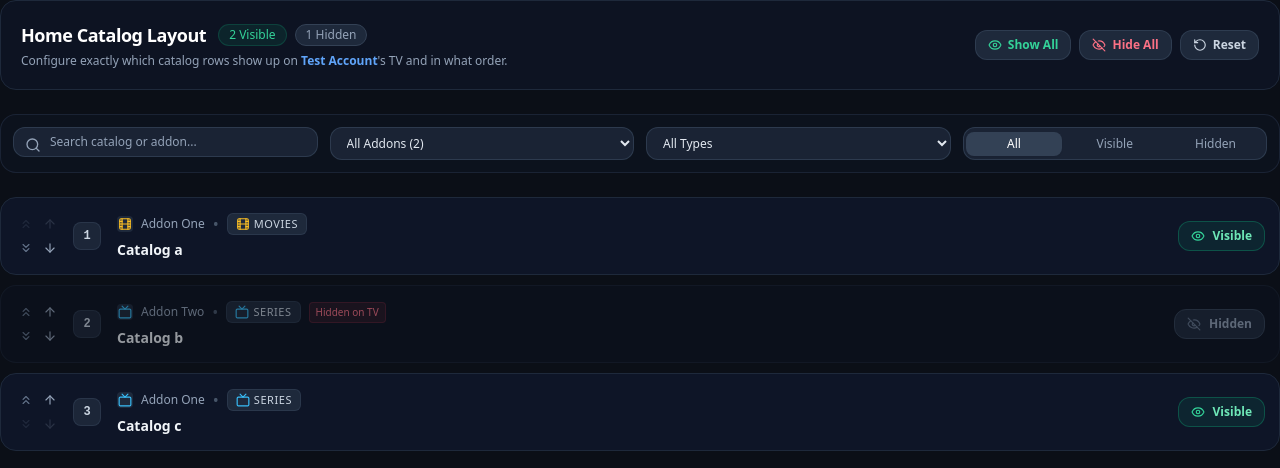
Test case: CatalogManager › type filter narrows the list to one type
This screenshot has width=1280, height=468.
Note: The type filter is the second select element.
Select "SERIES" in the 2nd dropdown at point(798, 144), box [646,127,950,160]
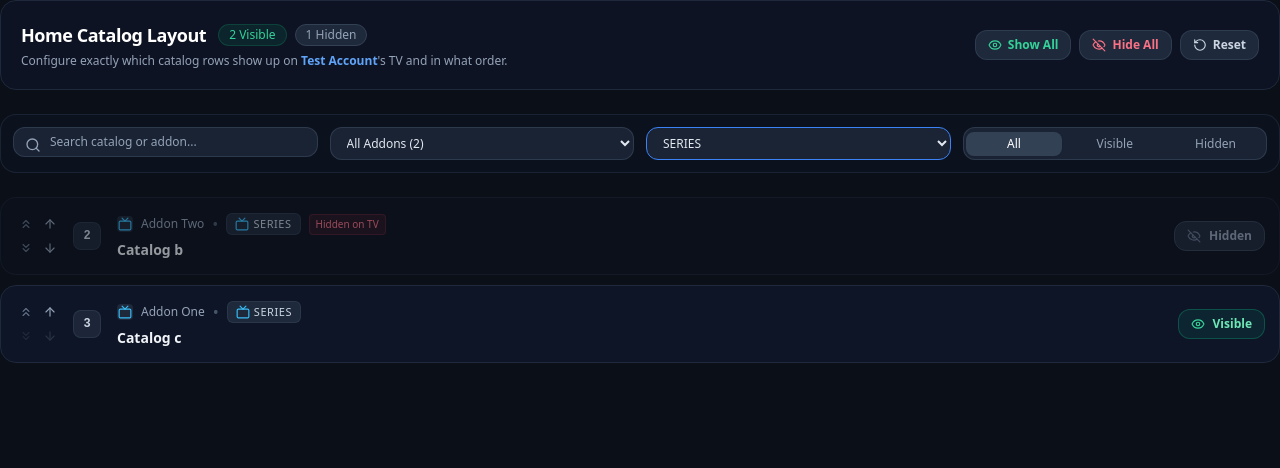
Expected: the heading "Catalog b" is shown, [117,240,183,260]
Expected: the heading "Catalog a" is gone
